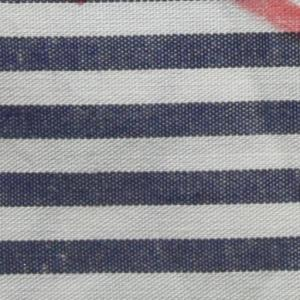Stain: (231, 1, 300, 48), (68, 1, 94, 11)
